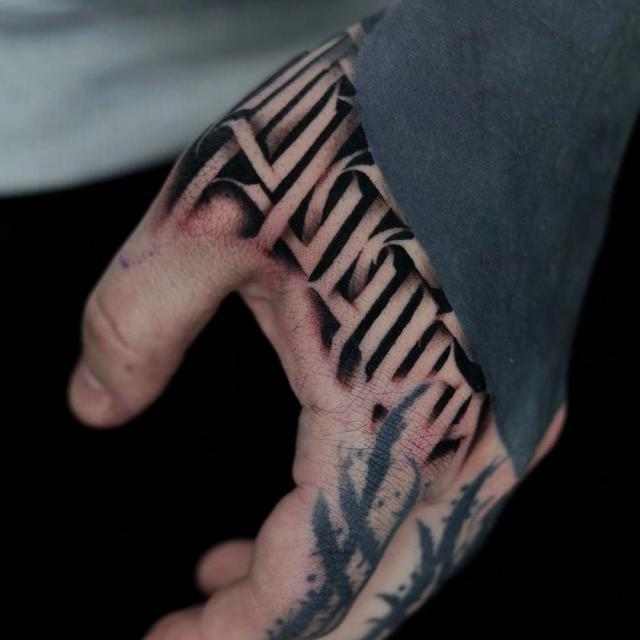-: (164, 62, 533, 640)
